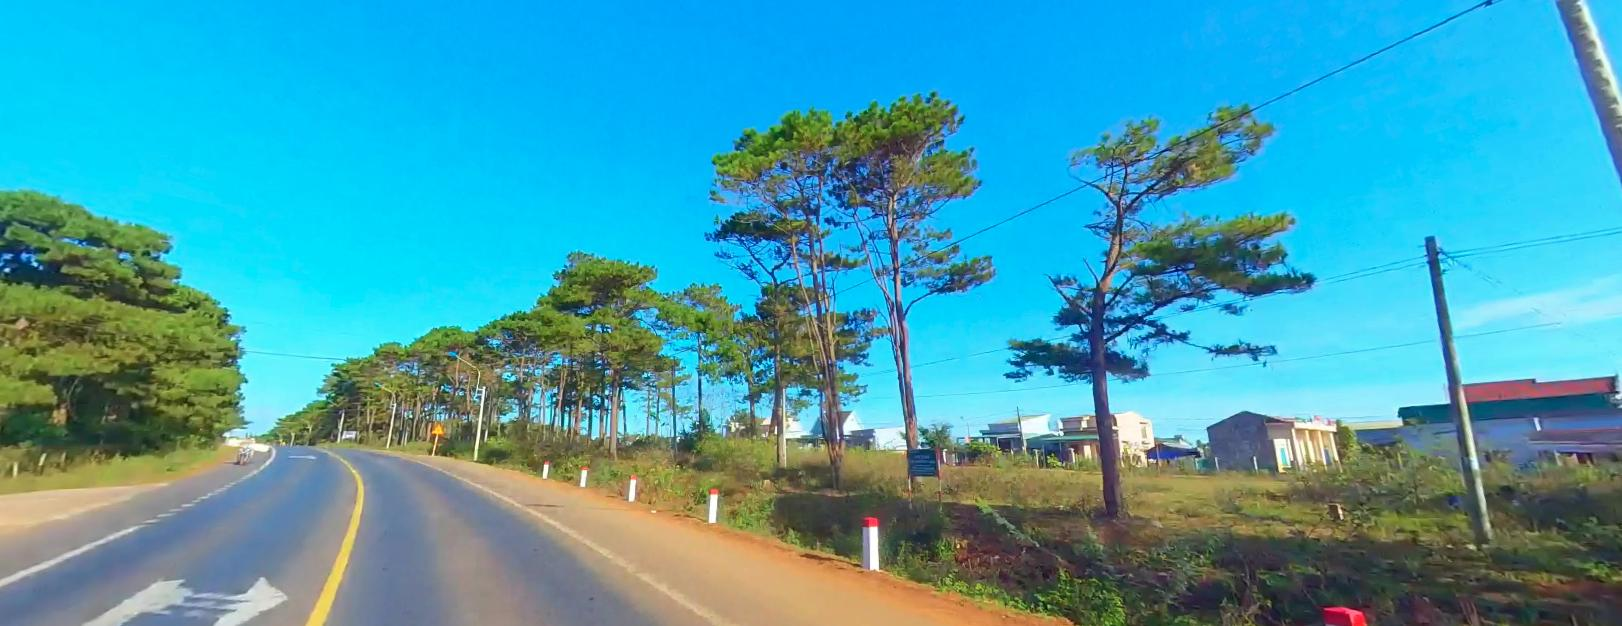Nguy hiem: (431, 421, 443, 432), (431, 422, 443, 433), (431, 422, 443, 432), (431, 423, 442, 431)
